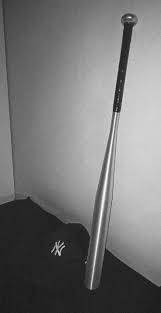baseball bat: (83, 10, 140, 290)
